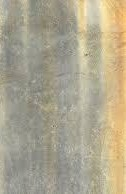Corrosion: (99, 1, 126, 194), (76, 1, 89, 65)
